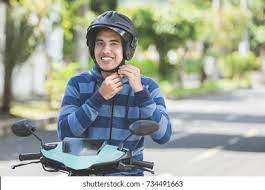com_capacete: (83, 9, 139, 75)
